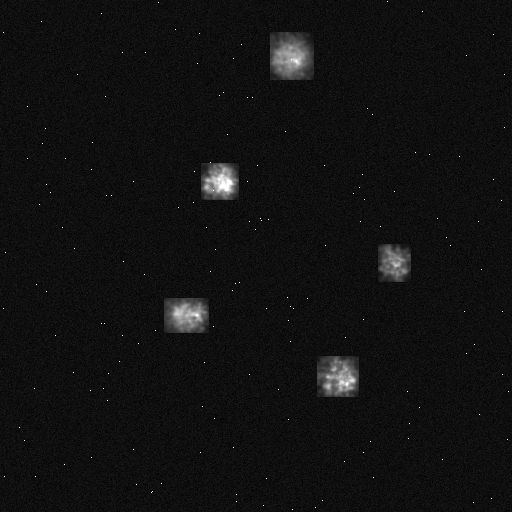lam1: (270, 32, 313, 79), (317, 356, 358, 396), (164, 298, 208, 332), (201, 163, 238, 199), (378, 244, 410, 281)
